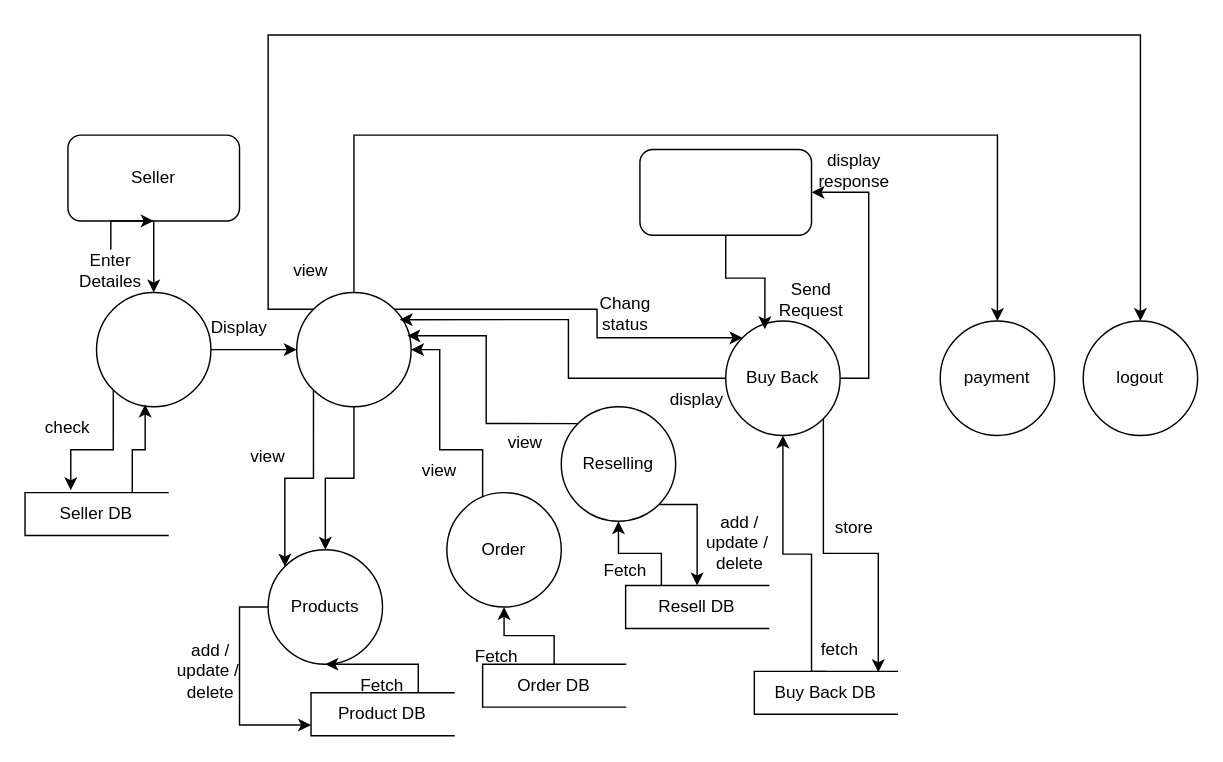
The diagram is 1223 pixels wide and 762 high, and some of its shapes have lost their labels. Each missing label, with the centre of its shape:
Customer: [725,191]
login: [153,349]
Seller Dashboard: [353,349]
